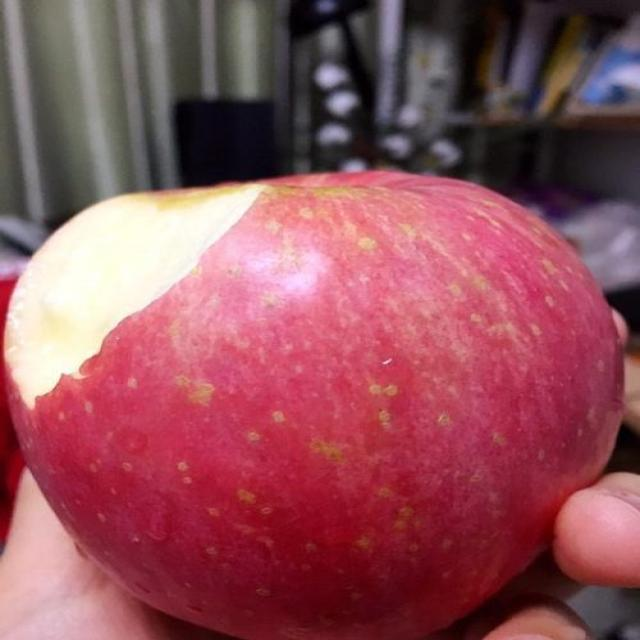Apple: (18, 185, 605, 640)
